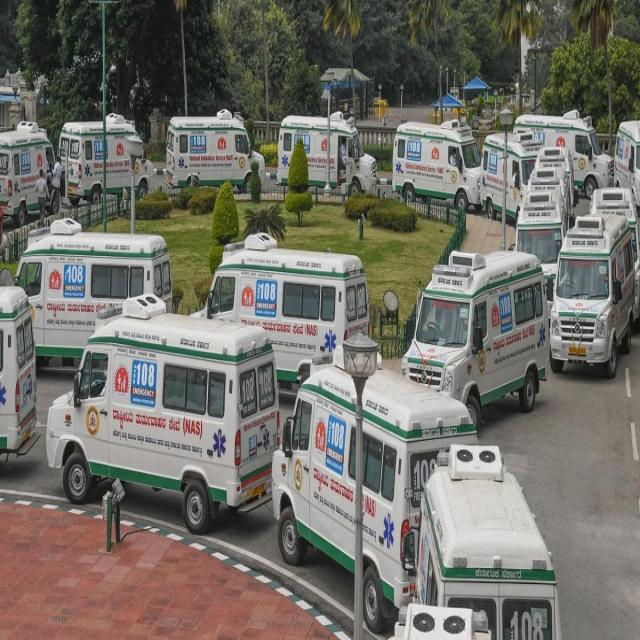ambulance: (272, 343, 480, 621), (47, 294, 279, 537), (415, 443, 560, 640), (188, 232, 370, 384), (401, 248, 551, 417), (15, 218, 172, 370), (550, 210, 635, 375), (166, 106, 266, 196), (276, 111, 378, 197), (512, 110, 614, 195), (59, 113, 155, 203), (392, 117, 481, 211), (0, 284, 38, 455), (0, 119, 58, 221), (484, 130, 534, 220), (516, 191, 568, 276), (614, 120, 640, 217)
